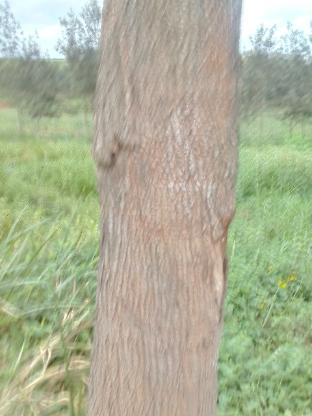tree: (80, 0, 243, 416)
